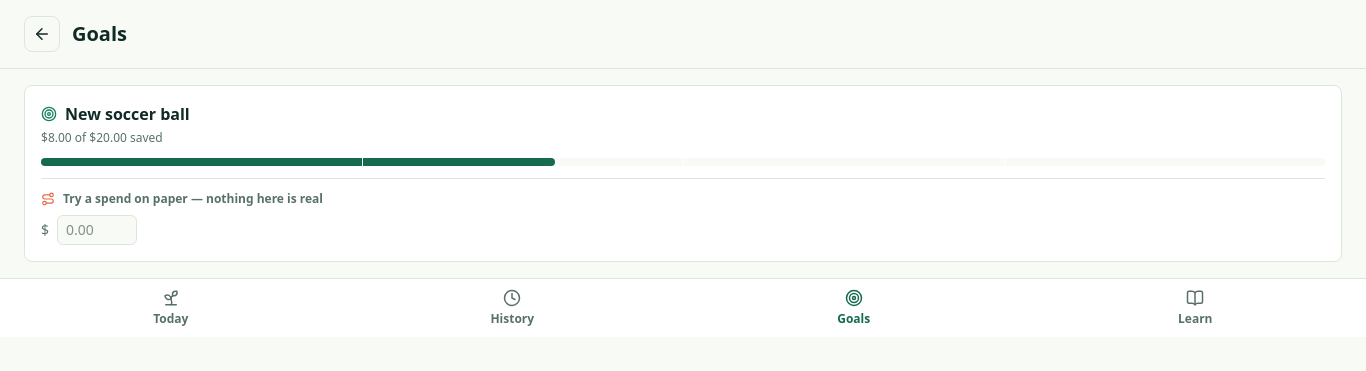
Test: GoalsPage › offers a spend-detour preview for an unfinished goal that never writes anywhere
Type "3" into the number field named "Preview a spend against New soccer ball".
click(97, 230); type("3")  # box [57,215,137,245]
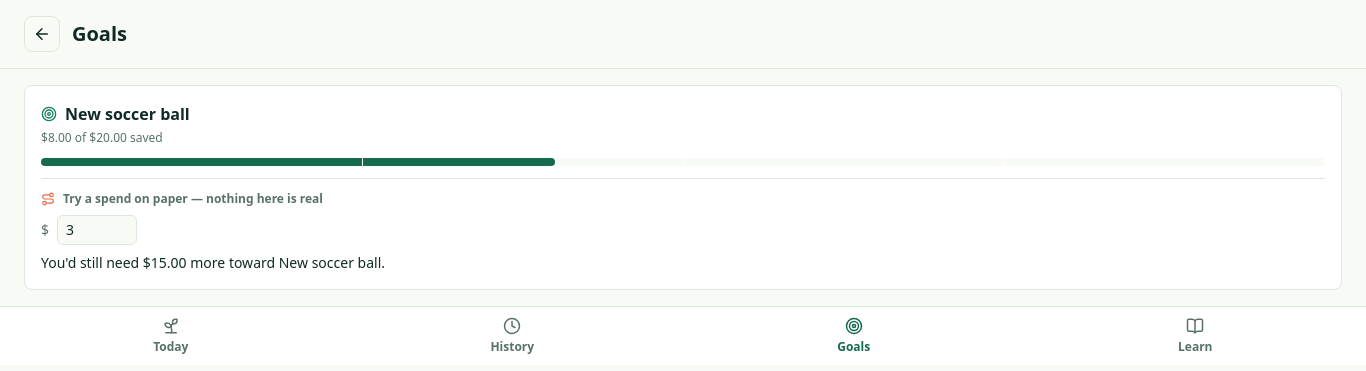
Result: the text "You'd still need $15.00 more toward New soccer ball." is shown at [41,253,385,272]
